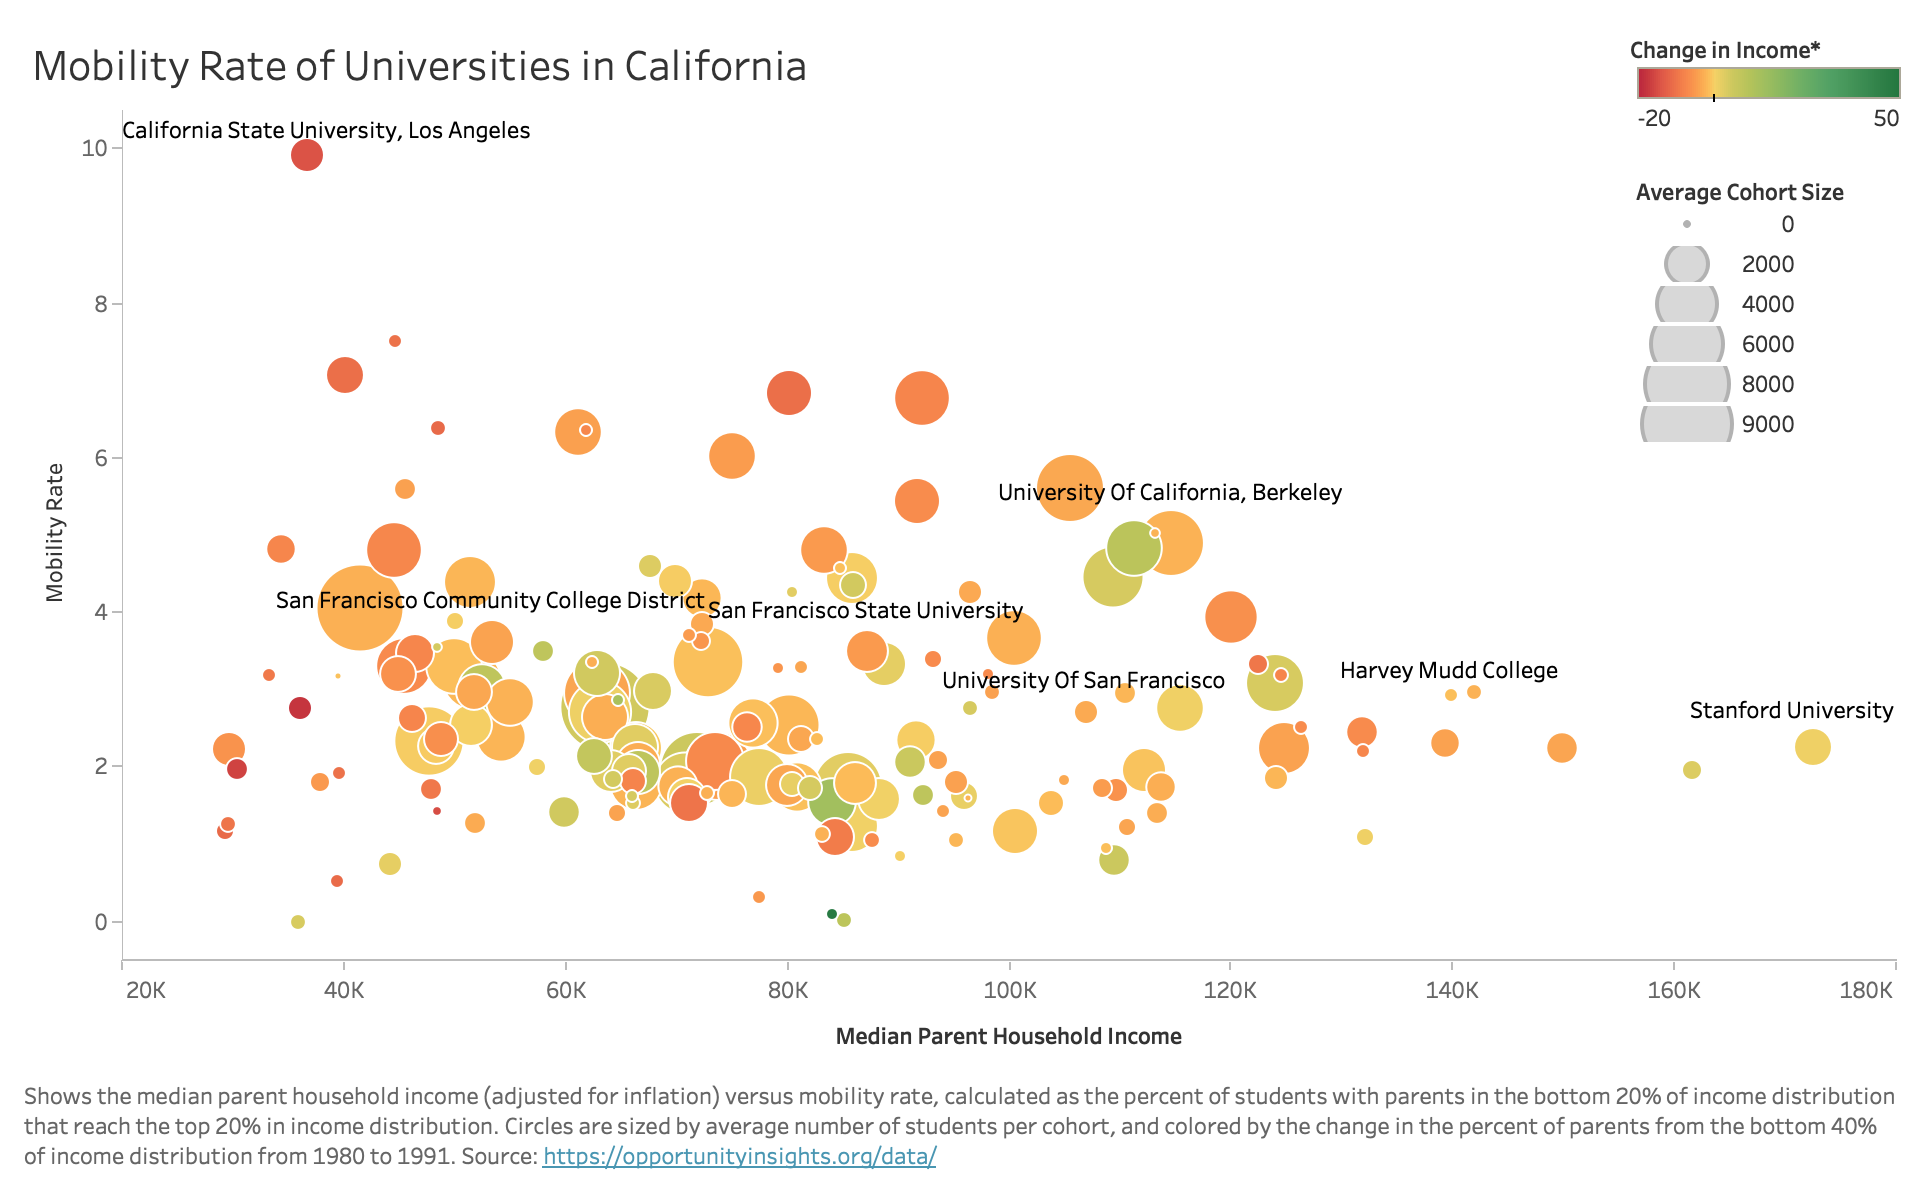

Layout of this report page (visuals, bound fields, positions):
{"tool":"tableau","page":{"name":"Bubble Chart Dashboard","canvas":[960,600],"ordinal":0},"visuals":[{"type":"worksheet","title":"Bubble Chart","mark":"Circle","rows":["mr_kq5_pq1"],"cols":["par_median"],"box":[8,8,944,584]},{"type":"legend","title":"Bubble Chart","param":"[federated.1mek0v10rrgu3l168nonb0jvqdt0].[none:trend_bottom40:qk]","box":[815,13,140,91]},{"type":"legend","title":"Bubble Chart","param":"[federated.1mek0v10rrgu3l168nonb0jvqdt0].[none:count:qk]","box":[817,86,140,165]}]}

Visuals, with their boxes in screenshot pixels (x1, y1, x2, y2), scaled from the page's 960x600 canvas onto the 1920x1200 screenshot:
"Bubble Chart" worksheet (Circle marks): [16, 16, 1904, 1184]
"Bubble Chart" legend: [1630, 26, 1910, 208]
"Bubble Chart" legend: [1634, 172, 1914, 502]
